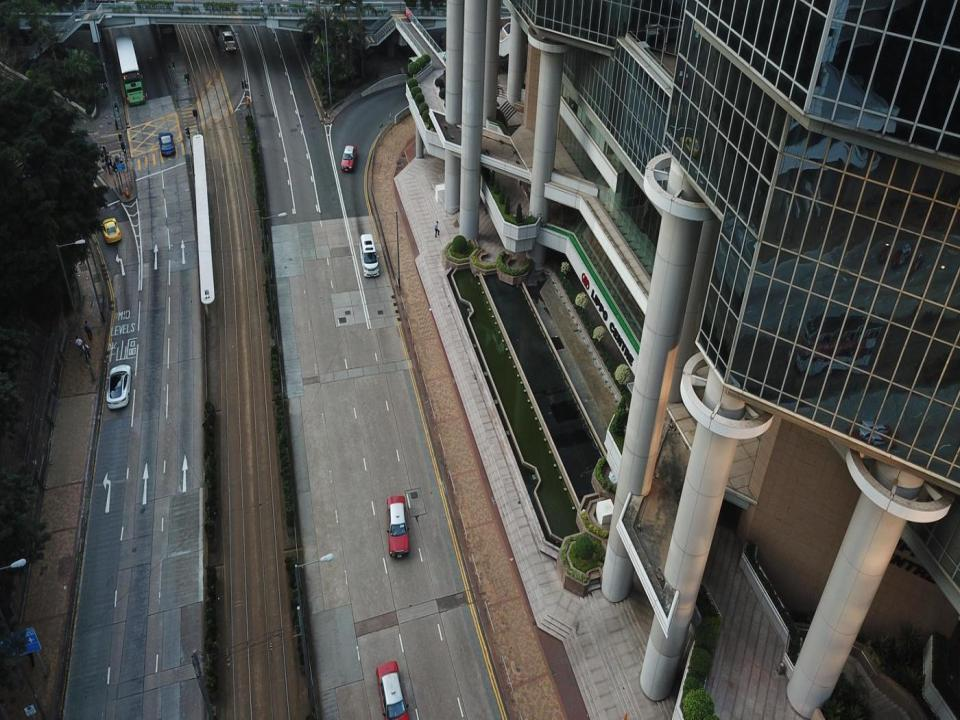bus: (114, 34, 146, 107)
car: (374, 660, 410, 715), (387, 494, 412, 560), (107, 363, 131, 410), (100, 216, 121, 242), (340, 142, 358, 171), (156, 132, 177, 156), (223, 29, 235, 50)
van: (359, 233, 381, 278)
